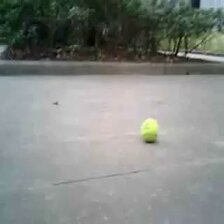tennis: (141, 119, 158, 141)
